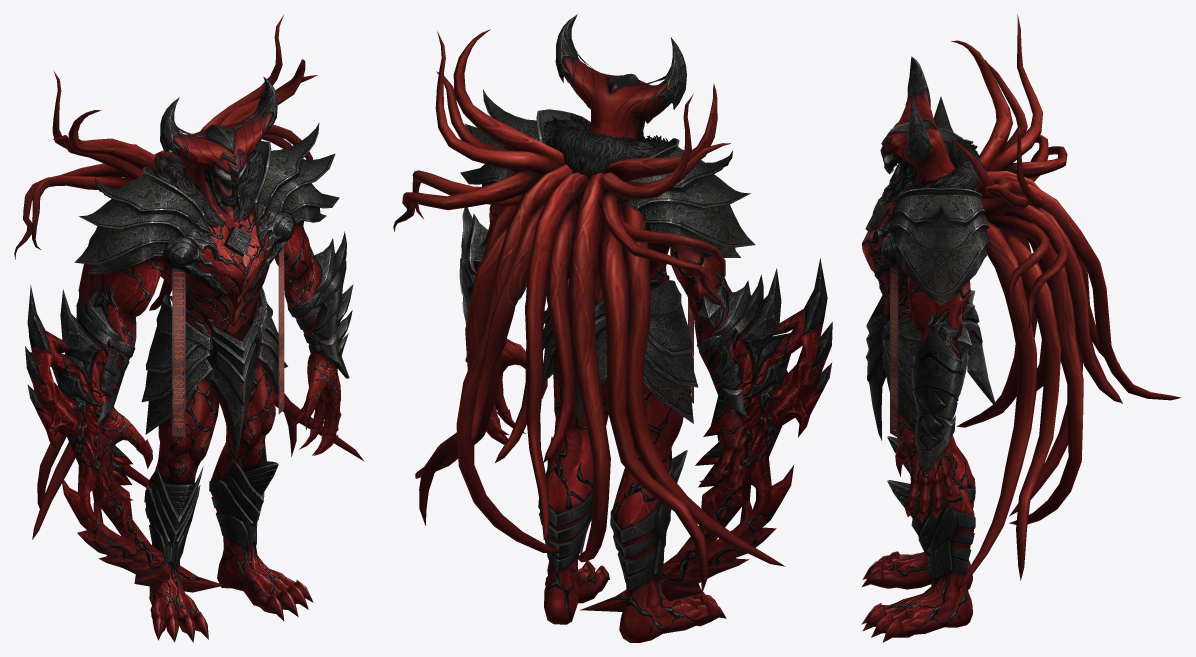
File: fireboss.fbx
The picture shows the model from 3 angles, left to right: view 1: azimuth 30°, elevation 25°; view 2: azimuth 150°, elevation 25°; view 3: azimuth 270°, elevation 25°; orthographic projection. The views are drawn at different scales.
Visible parts, largest first — view 1: sv_carnage01_s02_03, sv_carnage01_s02_01, sv_carnage01_s02_02, sv_carnage01_s02_wp003, sv_carnage01_s02_04, sv_carnage01_s02_01_R_hand, sv_carnage01_s02_03_R_hand, f1, f2, f3; view 2: sv_carnage01_s02_02, sv_carnage01_s02_03, sv_carnage01_s02_01, sv_carnage01_s02_wp003, f7, sv_carnage01_s02_01_R_hand, sv_carnage01_s02_03_R_hand; view 3: sv_carnage01_s02_02, sv_carnage01_s02_03, sv_carnage01_s02_01, sv_carnage01_s02_04, f7, f6, f5.
Boxes of the visible parts, <box> form: sv_carnage01_s02_03: <box>74,77,353,568</box>; sv_carnage01_s02_01: <box>93,108,341,642</box>; sv_carnage01_s02_02: <box>14,15,364,539</box>; sv_carnage01_s02_wp003: <box>25,285,224,592</box>; sv_carnage01_s02_04: <box>172,159,284,437</box>; sv_carnage01_s02_01_R_hand: <box>96,355,152,502</box>; sv_carnage01_s02_03_R_hand: <box>76,296,135,426</box>; f1: <box>202,195,256,225</box>; f2: <box>188,175,261,211</box>; f3: <box>173,159,264,197</box>; sv_carnage01_s02_02: <box>393,29,785,593</box>; sv_carnage01_s02_03: <box>459,14,755,590</box>; sv_carnage01_s02_01: <box>474,56,731,642</box>; sv_carnage01_s02_wp003: <box>580,258,832,611</box>; f7: <box>545,125,660,179</box>; sv_carnage01_s02_01_R_hand: <box>699,359,742,494</box>; sv_carnage01_s02_03_R_hand: <box>697,274,763,419</box>; sv_carnage01_s02_02: <box>862,14,1181,591</box>; sv_carnage01_s02_03: <box>865,56,995,582</box>; sv_carnage01_s02_01: <box>861,88,974,642</box>; sv_carnage01_s02_04: <box>884,152,898,437</box>; f7: <box>919,149,987,190</box>; f6: <box>944,139,977,189</box>; f5: <box>929,137,972,183</box>.
Bounding box in the file's own units: 174 × 248 × 135.
Materials: 4 (4 with a texture image).
